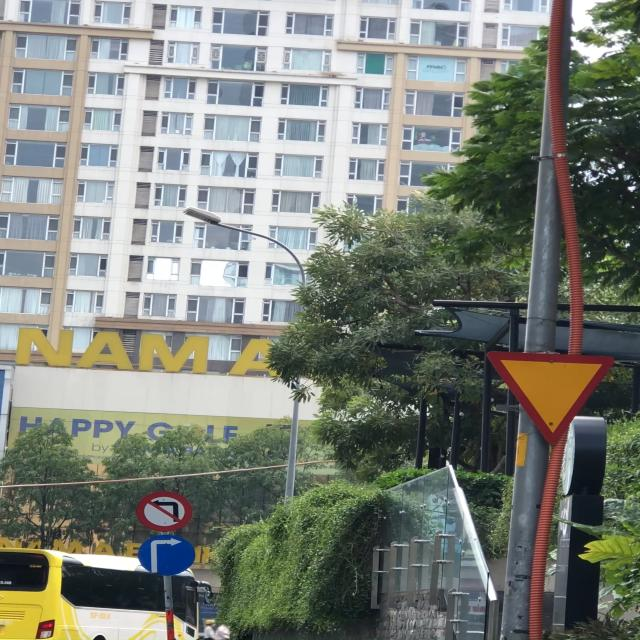Bien bao cam re trai: (137, 488, 197, 533)
Bien bao giao nhau voi duong uu tien: (476, 346, 624, 449)
Bien bao huong di phai theo: (137, 534, 197, 578)
